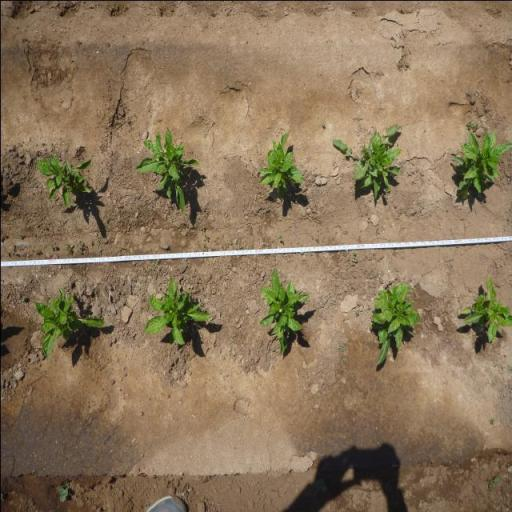plant: (132, 125, 202, 215), (33, 286, 108, 362), (258, 264, 312, 359), (144, 276, 210, 346), (370, 278, 419, 368), (449, 130, 512, 200), (458, 273, 512, 345), (33, 150, 93, 210), (257, 128, 303, 200), (364, 130, 404, 200)
weed: (330, 137, 364, 180), (56, 480, 71, 504), (312, 476, 327, 494), (465, 119, 481, 132), (486, 476, 500, 490), (75, 240, 88, 254), (150, 258, 160, 272), (350, 250, 358, 264), (337, 342, 346, 352), (65, 243, 73, 254), (200, 242, 208, 252), (48, 242, 56, 251), (202, 234, 210, 242), (340, 354, 346, 364), (33, 248, 40, 256), (198, 223, 205, 231), (114, 246, 127, 250), (488, 417, 494, 425), (354, 309, 360, 317), (277, 234, 283, 242), (314, 236, 320, 244), (15, 232, 22, 238), (20, 294, 25, 302), (4, 250, 10, 256), (96, 236, 102, 242), (236, 244, 242, 250), (507, 364, 512, 370), (228, 239, 233, 245), (12, 249, 16, 256), (90, 240, 94, 246), (321, 120, 324, 128)
